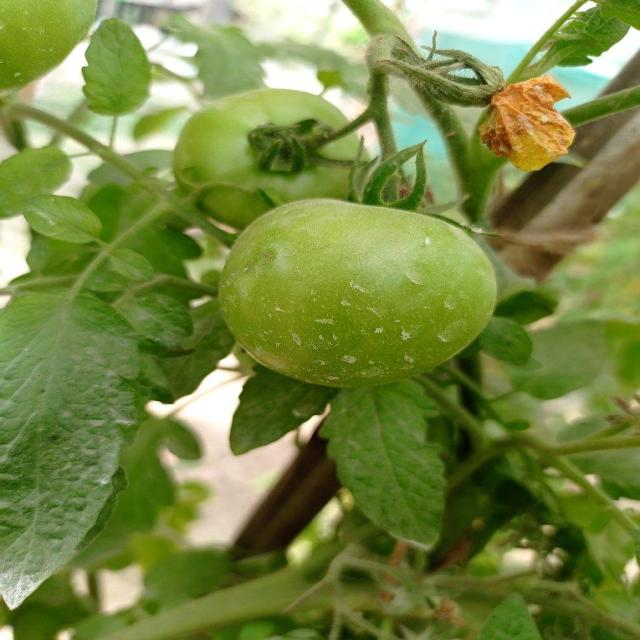Unripe: (221, 193, 500, 390), (176, 88, 368, 223)
